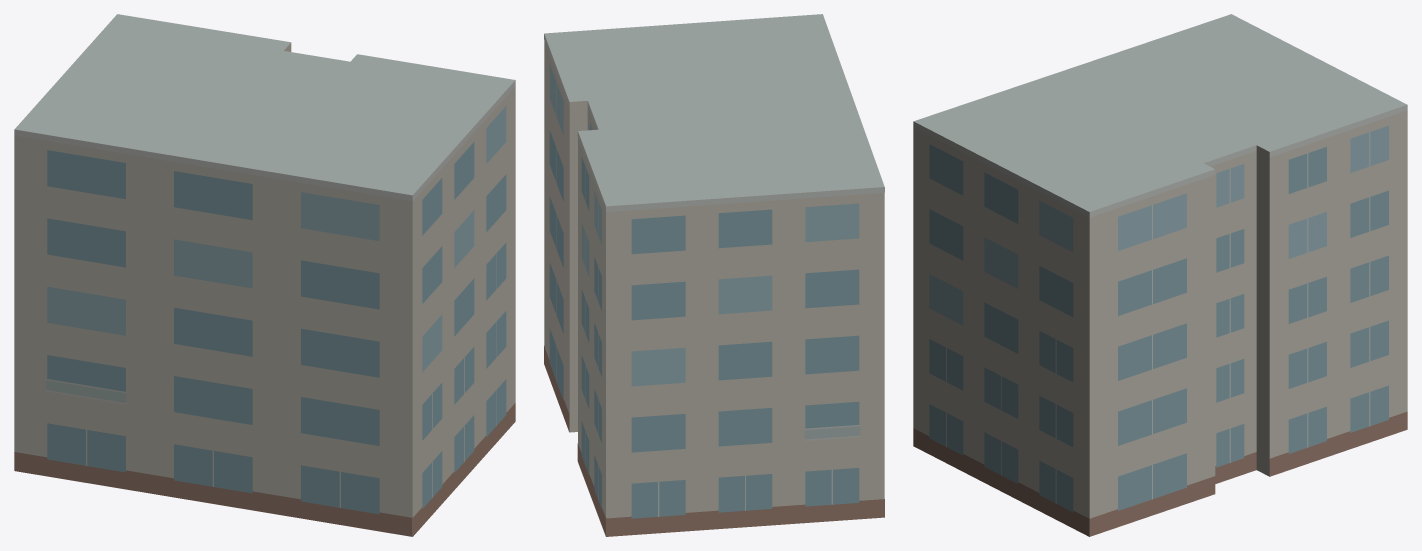
The model's file is survey-upis-32681856.glb.
3 renders of one model, left to right at view 1: azimuth 30°, elevation 25°; view 2: azimuth 150°, elevation 25°; view 3: azimuth 270°, elevation 25°, orthographic. The views are drawn at different scales.
Visible parts, largest first — view 1: survey-upis-32681856.tmp; view 2: survey-upis-32681856.tmp; view 3: survey-upis-32681856.tmp.
Part boxes in pixels (bbox=[...]): survey-upis-32681856.tmp: bbox=[14, 14, 515, 536]; survey-upis-32681856.tmp: bbox=[544, 14, 884, 536]; survey-upis-32681856.tmp: bbox=[913, 14, 1407, 536].
Size of the model in its own units: 18.18 by 13.9 by 19.17.
